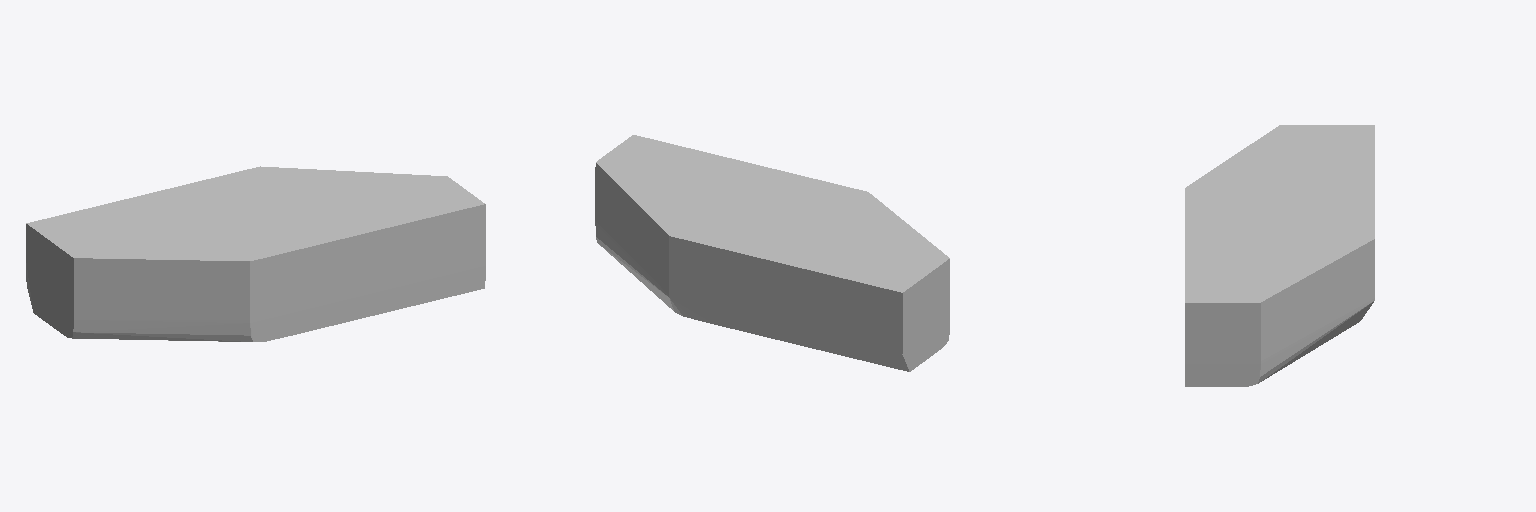
The model's file is pentagon_collision_35.obj.
The picture shows the model from 3 angles: view 1: azimuth 30°, elevation 25°; view 2: azimuth 150°, elevation 25°; view 3: azimuth 270°, elevation 25°; orthographic projection.
Size of the model in its own units: 0.0148 by 0.0033 by 0.0067.